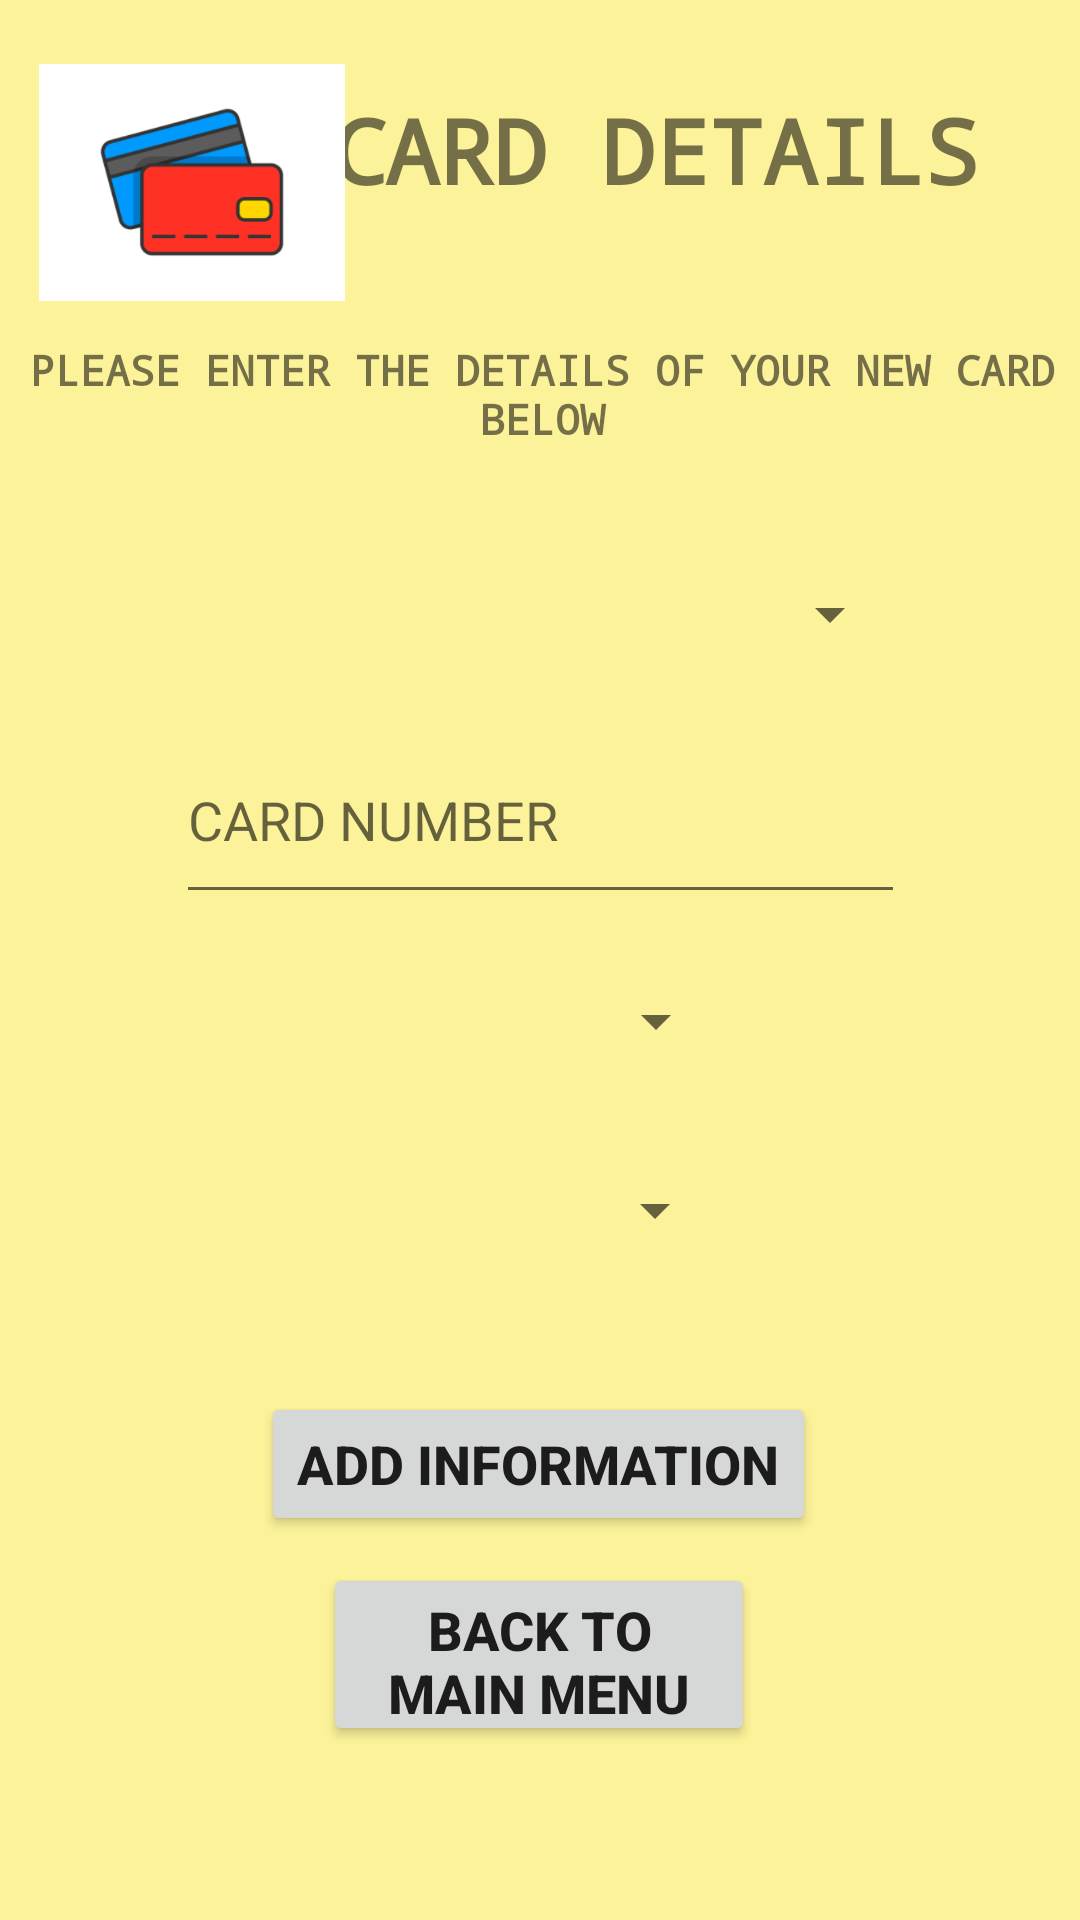

Where to tap for icons on this 1080x1920 app screen, as (x=x, y=y):
cardicon: (x=192, y=182)
